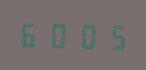five: (99, 20, 125, 50)
six: (18, 19, 44, 49)
zero: (72, 19, 98, 50), (45, 19, 71, 49)
